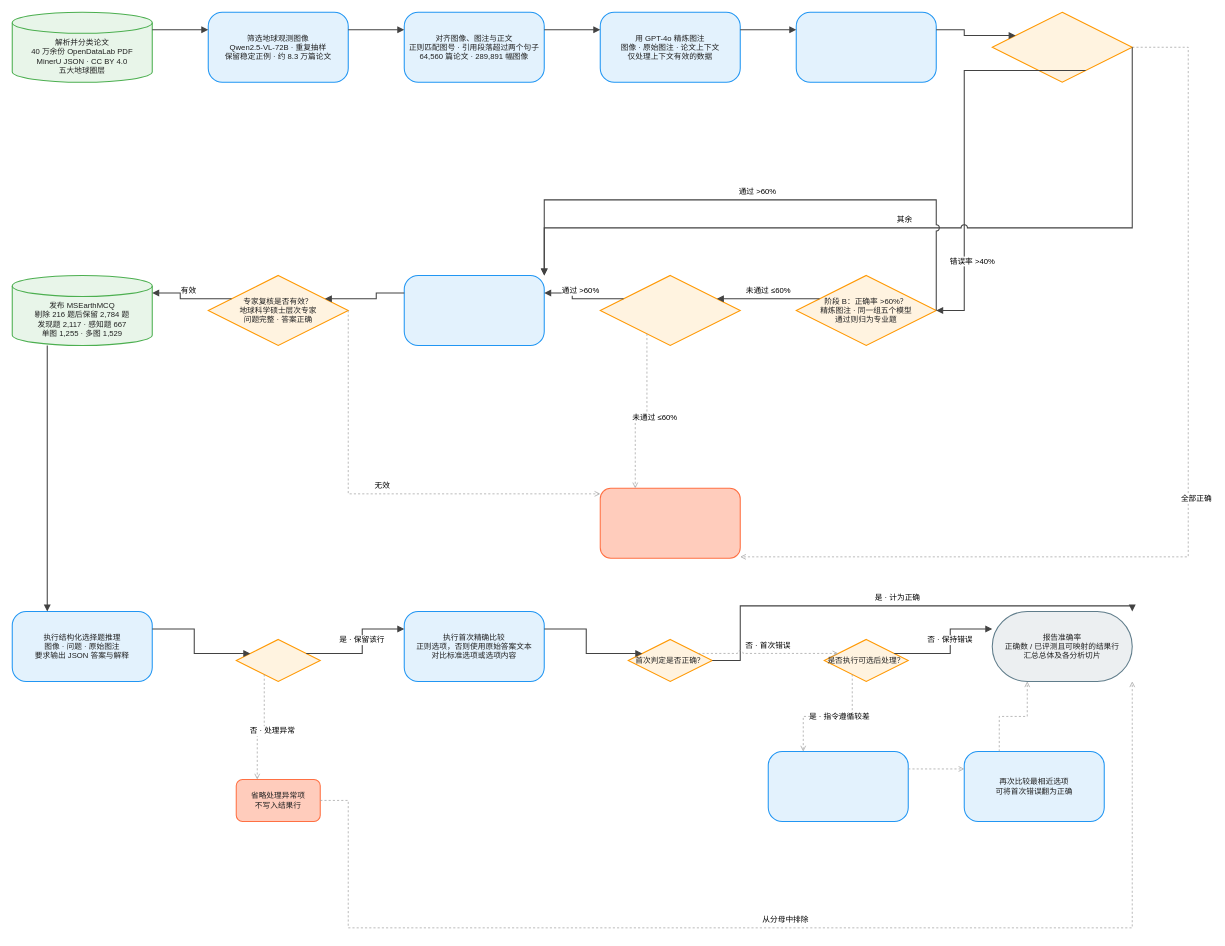
Image size: 1225x946. Some labels were removed from this diagram. The shapes that lost their labels are listed below. From the top down, each one's centre as x and y in pixels, then its label:
[865,46]: 生成候选选择题 GPT-4o · 图像 · 两种图注 四个选项 · 论文证据约束推理
[1061,46]: 阶段 A 投票结果？ 原始图注 · 五个多模态大模型
[473,310]: 抽取 3,000 道选择题 阶段 A 900 · B 1,800 · C 300 全部送交专家复核
[669,310]: 阶段 C：正确率 >60%？ GPT-4o · InternVL2.5-78B Qwen2.5-VL-72B · 通过则归为困难题
[669,522]: 剔除候选题 过于简单、有缺陷、 信息不完整或答案错误
[277,660]: 是否生成评测结果行？
[837,786]: all-MiniLM-L6-v2 语义相似度 选择文本最相近的选项
